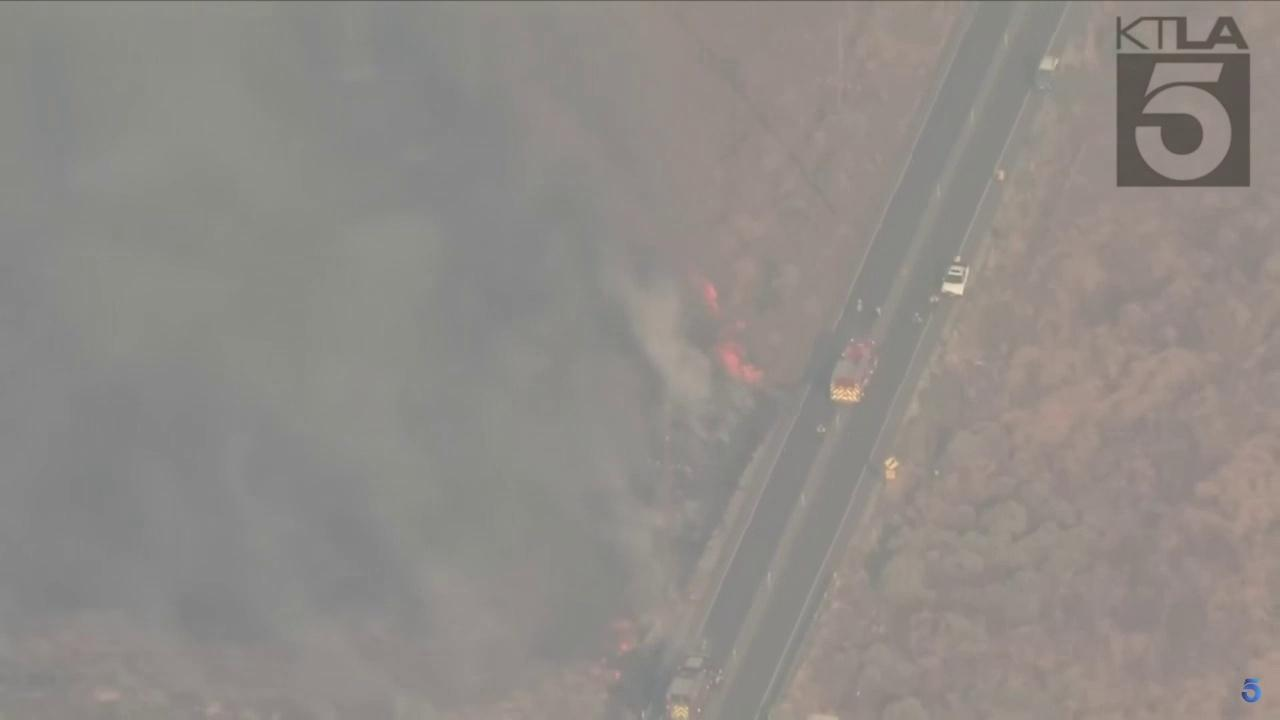fire: (715, 341, 762, 385), (700, 284, 722, 317), (617, 641, 633, 653), (613, 670, 622, 681)
smoke: (0, 0, 764, 720)
